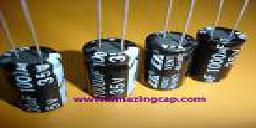Electrolytic-Capacitor: (4, 37, 69, 119), (81, 34, 143, 97), (196, 20, 250, 88), (144, 27, 196, 92)
